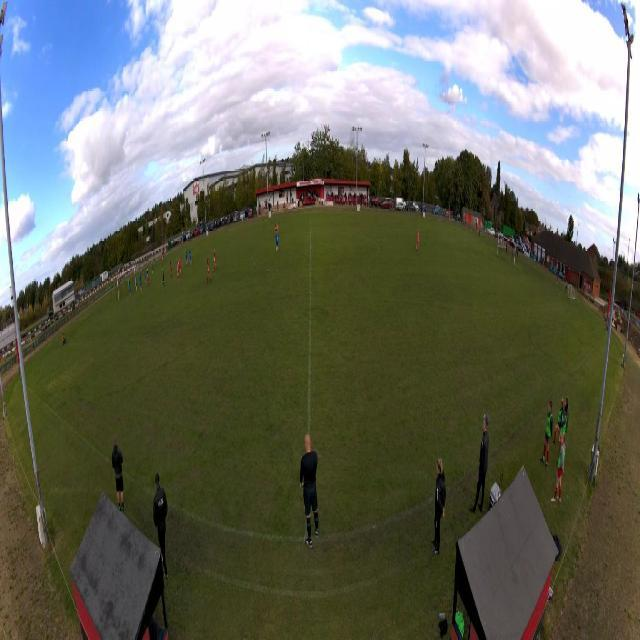ball: (182, 246, 183, 250)
player: (206, 257, 212, 284), (212, 248, 218, 274), (275, 229, 279, 253), (161, 266, 165, 288), (176, 260, 180, 281), (185, 247, 189, 266), (274, 221, 278, 238), (416, 229, 419, 251), (179, 256, 182, 277), (189, 247, 192, 267), (139, 274, 142, 294), (170, 260, 173, 279), (129, 279, 132, 298), (144, 267, 147, 285), (151, 259, 154, 275), (162, 253, 165, 267), (135, 276, 137, 293), (128, 276, 130, 292), (178, 256, 180, 270), (147, 273, 149, 287), (147, 269, 149, 279), (182, 239, 184, 248)
